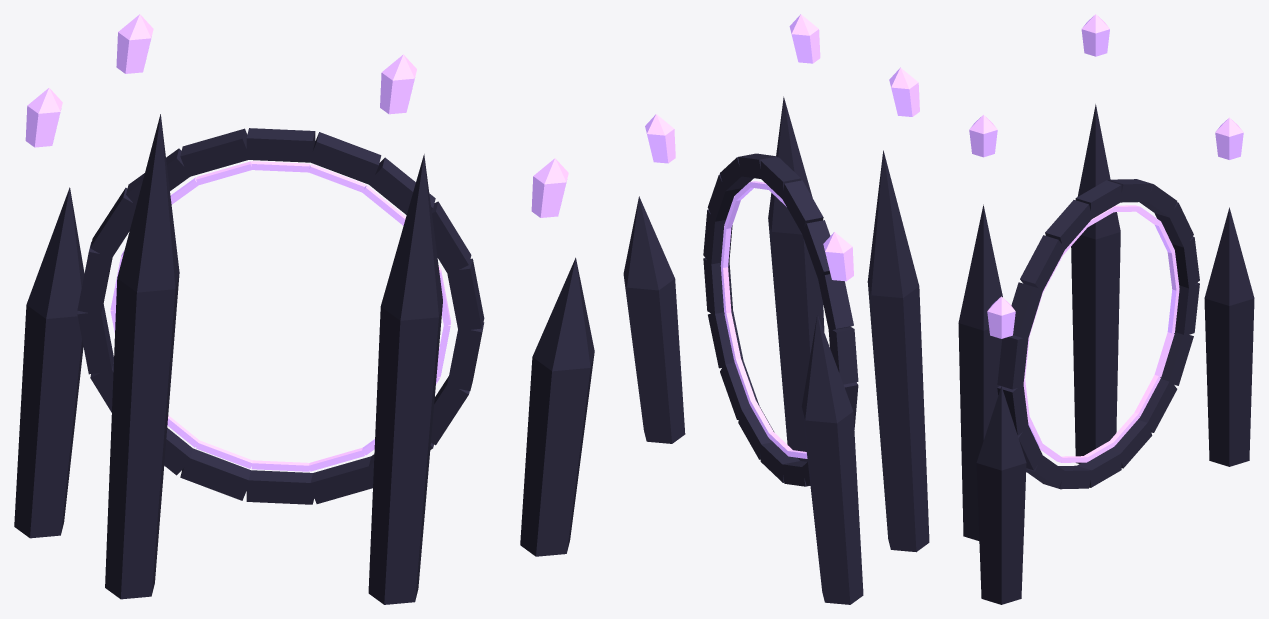
The model's file is Landmark_VoidRift.glb.
3 views of the same model, side by side, from view 1: azimuth 30°, elevation 25°; view 2: azimuth 150°, elevation 25°; view 3: azimuth 270°, elevation 25° (orthographic). The views are drawn at different scales.
Visible parts, largest first — view 1: Landmark_VoidRift_VoidRift_dark_-4_-5, Landmark_VoidRift_VoidRift_dark_-3_-5, Landmark_VoidRift_VoidRift_accent_-4_-5, Landmark_VoidRift_VoidRift_accent_-3_-5; view 2: Landmark_VoidRift_VoidRift_dark_-4_-5, Landmark_VoidRift_VoidRift_dark_-3_-5, Landmark_VoidRift_VoidRift_accent_-4_-5, Landmark_VoidRift_VoidRift_accent_-3_-5; view 3: Landmark_VoidRift_VoidRift_dark_-4_-5, Landmark_VoidRift_VoidRift_dark_-3_-5, Landmark_VoidRift_VoidRift_accent_-4_-5, Landmark_VoidRift_VoidRift_accent_-3_-5.
Boxes of the visible parts, x1,y1,x2,y2 form: Landmark_VoidRift_VoidRift_dark_-4_-5: [14, 114, 484, 604]; Landmark_VoidRift_VoidRift_dark_-3_-5: [520, 257, 594, 556]; Landmark_VoidRift_VoidRift_accent_-4_-5: [25, 14, 450, 471]; Landmark_VoidRift_VoidRift_accent_-3_-5: [531, 158, 568, 217]; Landmark_VoidRift_VoidRift_dark_-4_-5: [703, 96, 929, 604]; Landmark_VoidRift_VoidRift_dark_-3_-5: [623, 196, 685, 443]; Landmark_VoidRift_VoidRift_accent_-4_-5: [720, 14, 919, 458]; Landmark_VoidRift_VoidRift_accent_-3_-5: [645, 114, 675, 163]; Landmark_VoidRift_VoidRift_dark_-4_-5: [958, 104, 1254, 540]; Landmark_VoidRift_VoidRift_dark_-3_-5: [976, 386, 1026, 604]; Landmark_VoidRift_VoidRift_accent_-4_-5: [969, 14, 1243, 462]; Landmark_VoidRift_VoidRift_accent_-3_-5: [987, 296, 1015, 338].
Size of the model in its own units: 103 by 132 by 78.8.
